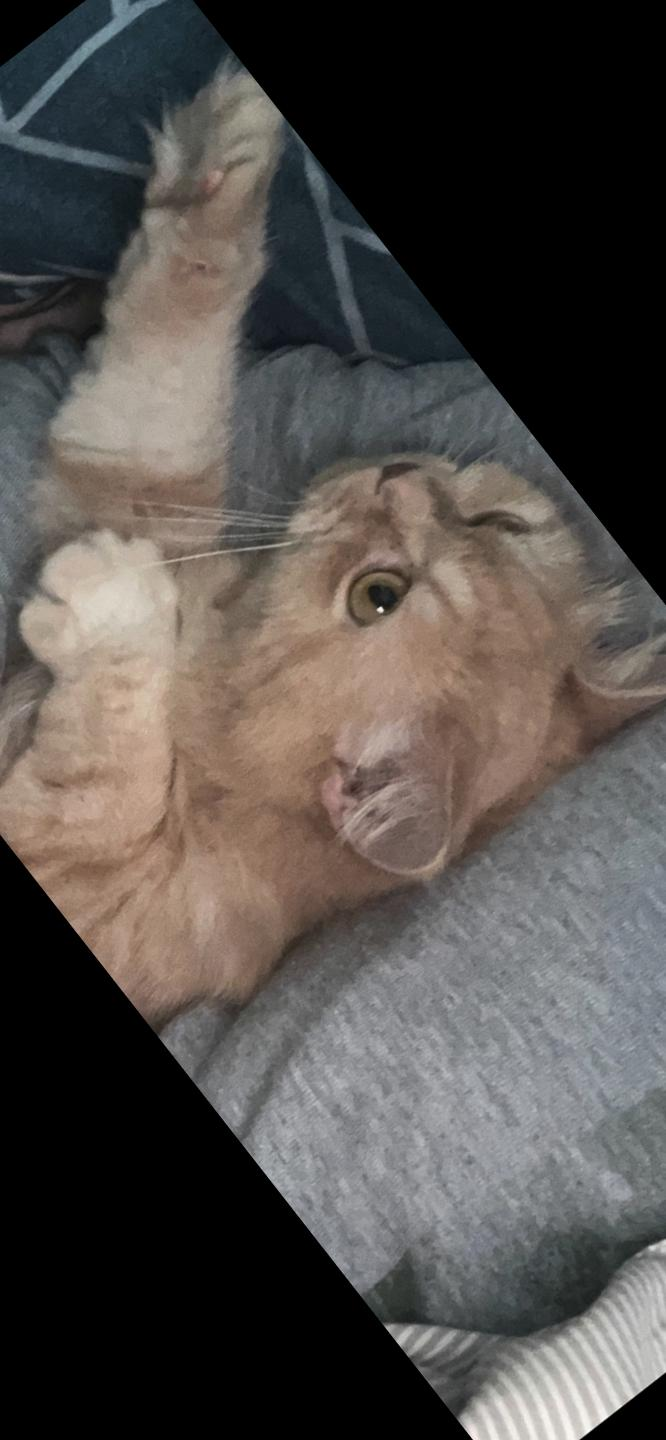cat: (0, 42, 666, 1080)
